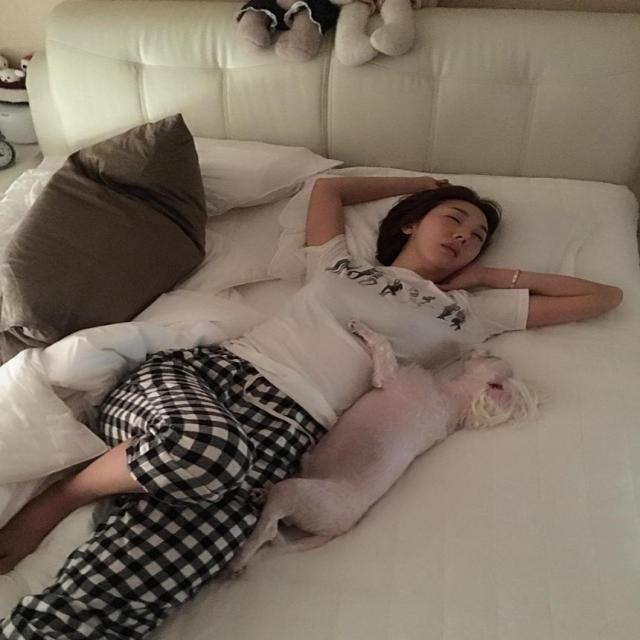people: (0, 165, 628, 638)
